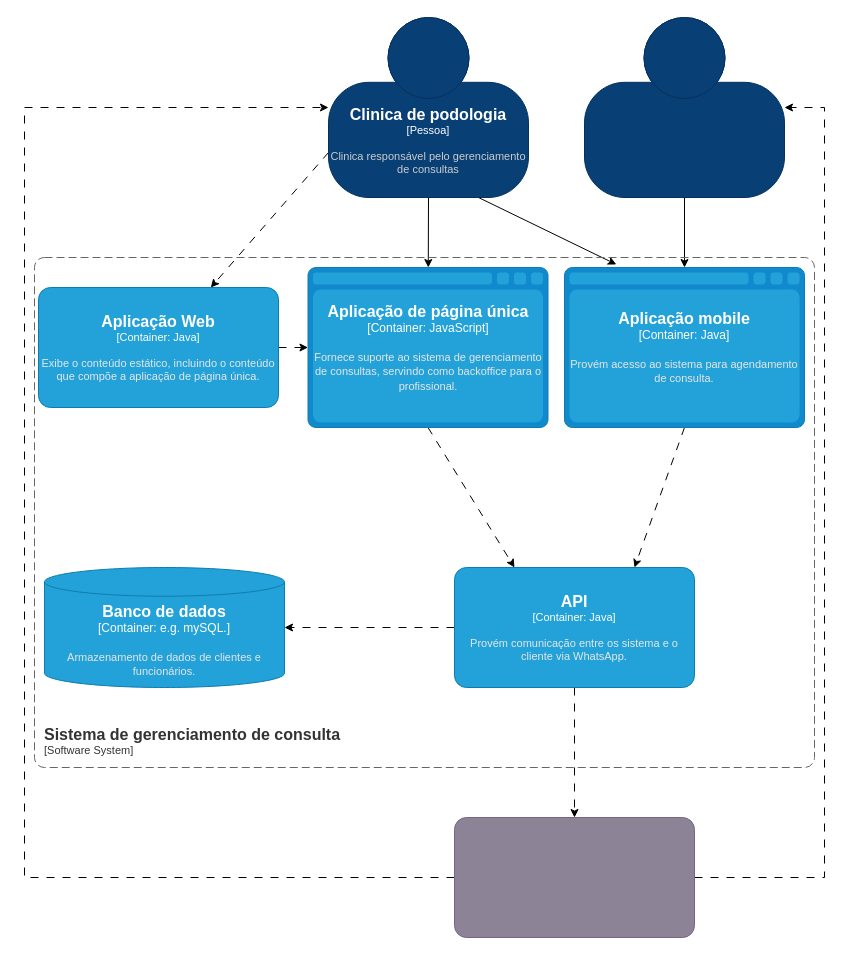
The diagram is 850 pixels wide and 955 high, and some of its shapes have lost their labels. Here are the shapes that lost their labels. From the top down, the centre of each, then its label:
the point at 684,107: Cliente [Pessoa] Paciente da clinica
the point at 574,877: WhatsApp [Software System] Responsável pelo envio de tokens
